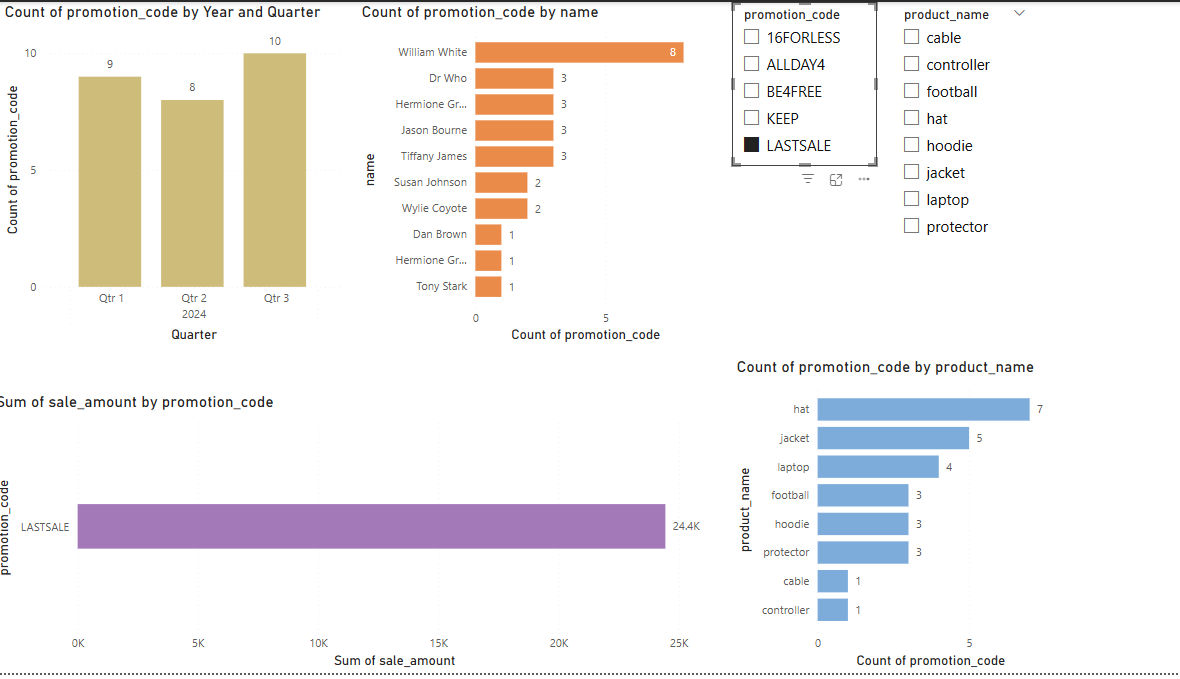

What the dashboard file says about the page in this screenshot:
{"tool":"powerbi","page":{"name":"P6 and Promotion Codes","canvas":[1280,720],"ordinal":0},"visuals":[{"type":"columnChart","fields":{"Category":["sale.Year_dt.Variation.Date Hierarchy.Year","sale.Quarter_dt.Variation.Date Hierarchy.Quarter","sale.month_name_dt.Variation.Date Hierarchy.Month","sale.month_name_dt.Variation.Date Hierarchy.Day"],"Y":["CountNonNull(sale.promotion_code)"]},"box":[9.7,0,372.5,369.6],"z":0},{"type":"clusteredBarChart","fields":{"Category":["sale.promotion_code"],"Y":["Sum(sale.sale_amount)"]},"box":[0,418.4,788.3,301.1],"z":1000},{"type":"clusteredBarChart","fields":{"Category":["customer.name"],"Y":["CountNonNull(sale.promotion_code)"]},"box":[393,0,373,370],"z":2000},{"type":"clusteredBarChart","fields":{"Category":["product.product_name"],"Y":["CountNonNull(sale.promotion_code)"]},"box":[794.7,381.3,344.3,338.5],"z":3000},{"type":"slicer","fields":{"Values":["sale.promotion_code"]},"box":[794.7,0,155.6,176],"z":4000},{"type":"slicer","fields":{"Values":["product.product_name"]},"box":[966.5,0,155.6,292.1],"z":5000}]}

Visuals, with their boxes in screenshot pixels (x1, y1, x2, y2), scaled from the page's 1280x720 canvas onto the 1180x679 screenshot:
columnChart - sale.Year_dt.Variation.Date Hierarchy.Year x sale.Quarter_dt.Variation.Date Hierarchy.Quarter: box=[9, 0, 352, 349]
clusteredBarChart - sale.promotion_code x Sum(sale.sale_amount): box=[0, 395, 727, 678]
clusteredBarChart - customer.name x CountNonNull(sale.promotion_code): box=[362, 0, 706, 349]
clusteredBarChart - product.product_name x CountNonNull(sale.promotion_code): box=[733, 360, 1050, 678]
slicer - sale.promotion_code: box=[733, 0, 876, 166]
slicer - product.product_name: box=[891, 0, 1034, 275]
